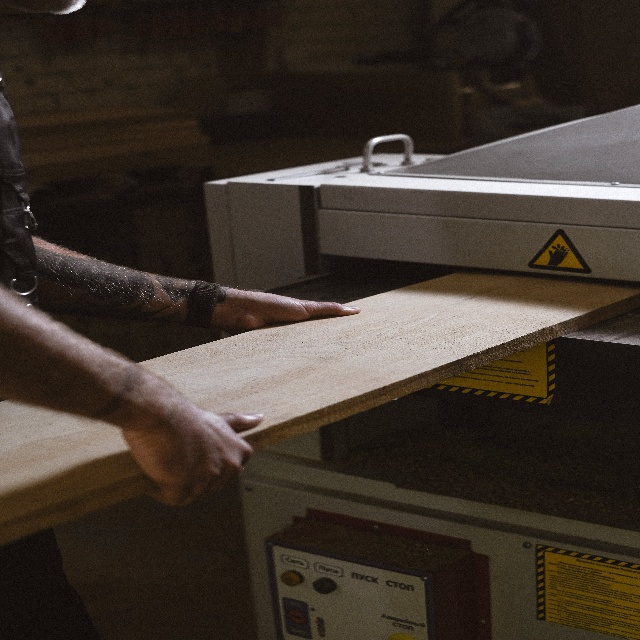Sin_guantes: (120, 356, 265, 509), (237, 282, 361, 337)
